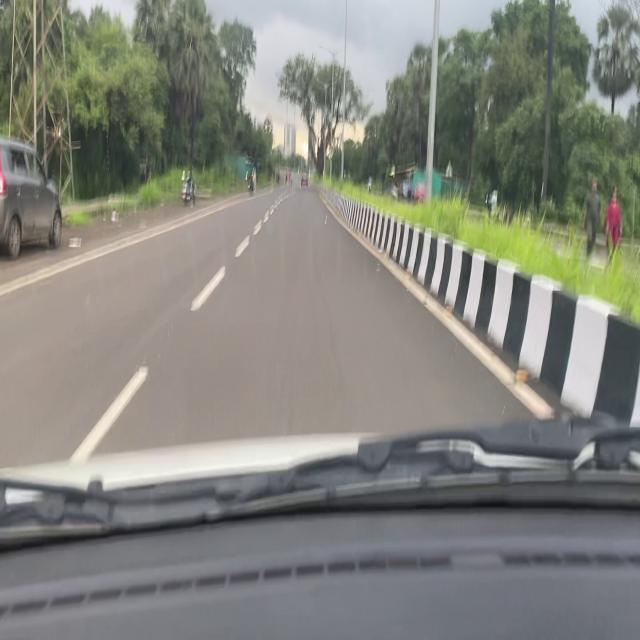lane: (66, 195, 294, 480), (307, 188, 554, 428), (1, 193, 242, 300)
